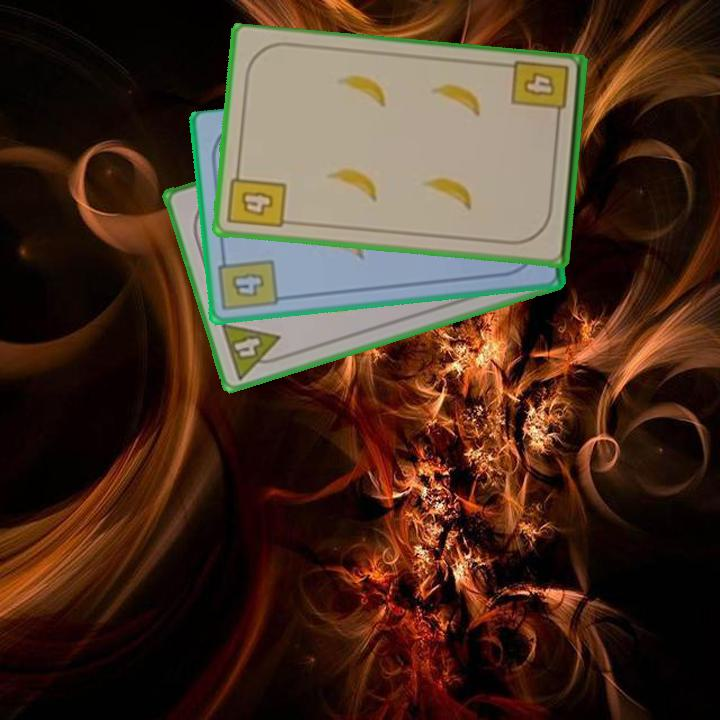4b: (508, 58, 573, 127), (215, 250, 281, 315), (224, 165, 289, 231)
4p: (217, 319, 289, 382)
